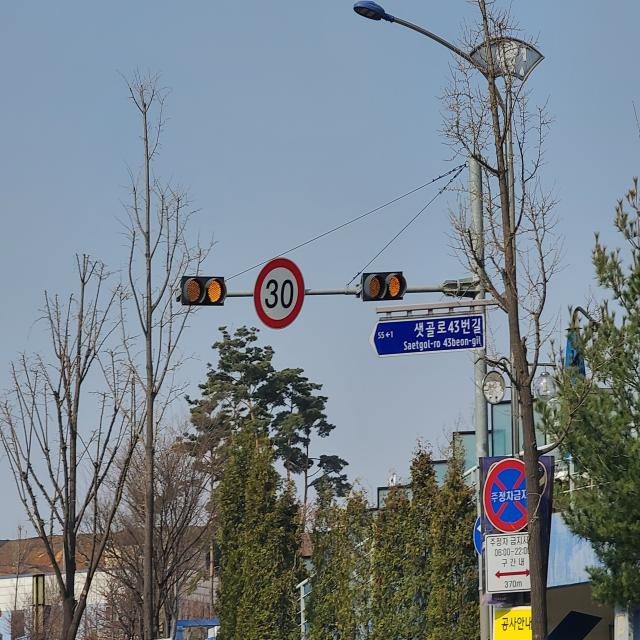Yellow Light: (205, 278, 224, 304), (183, 279, 201, 304), (388, 273, 403, 299), (367, 274, 382, 299)
